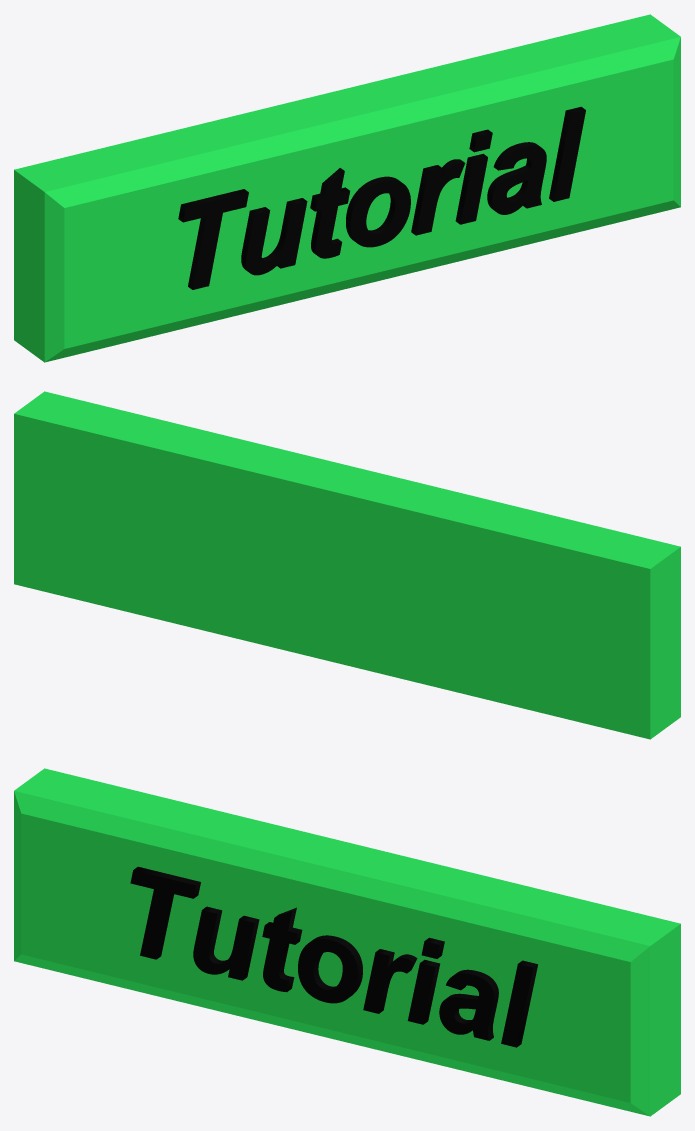
Rendered from Tutorial_button.fbx.
3 renders of one model, top to bottom at view 1: azimuth 30°, elevation 25°; view 2: azimuth 150°, elevation 25°; view 3: azimuth 330°, elevation 25°, orthographic.
Visible parts, largest first — view 1: Tutorial_button; view 2: Tutorial_button; view 3: Tutorial_button.
Part boxes in pixels (x1,y1,x2,y2): Tutorial_button: (14,14,680,362); Tutorial_button: (14,391,680,739); Tutorial_button: (14,768,680,1116).
Bounding box in the file's own units: 735 × 188 × 83.27.
